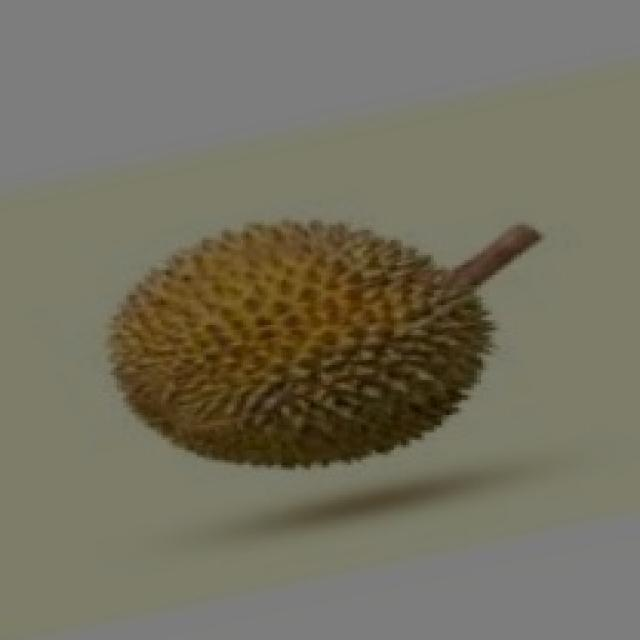fruit: (77, 178, 492, 512)
